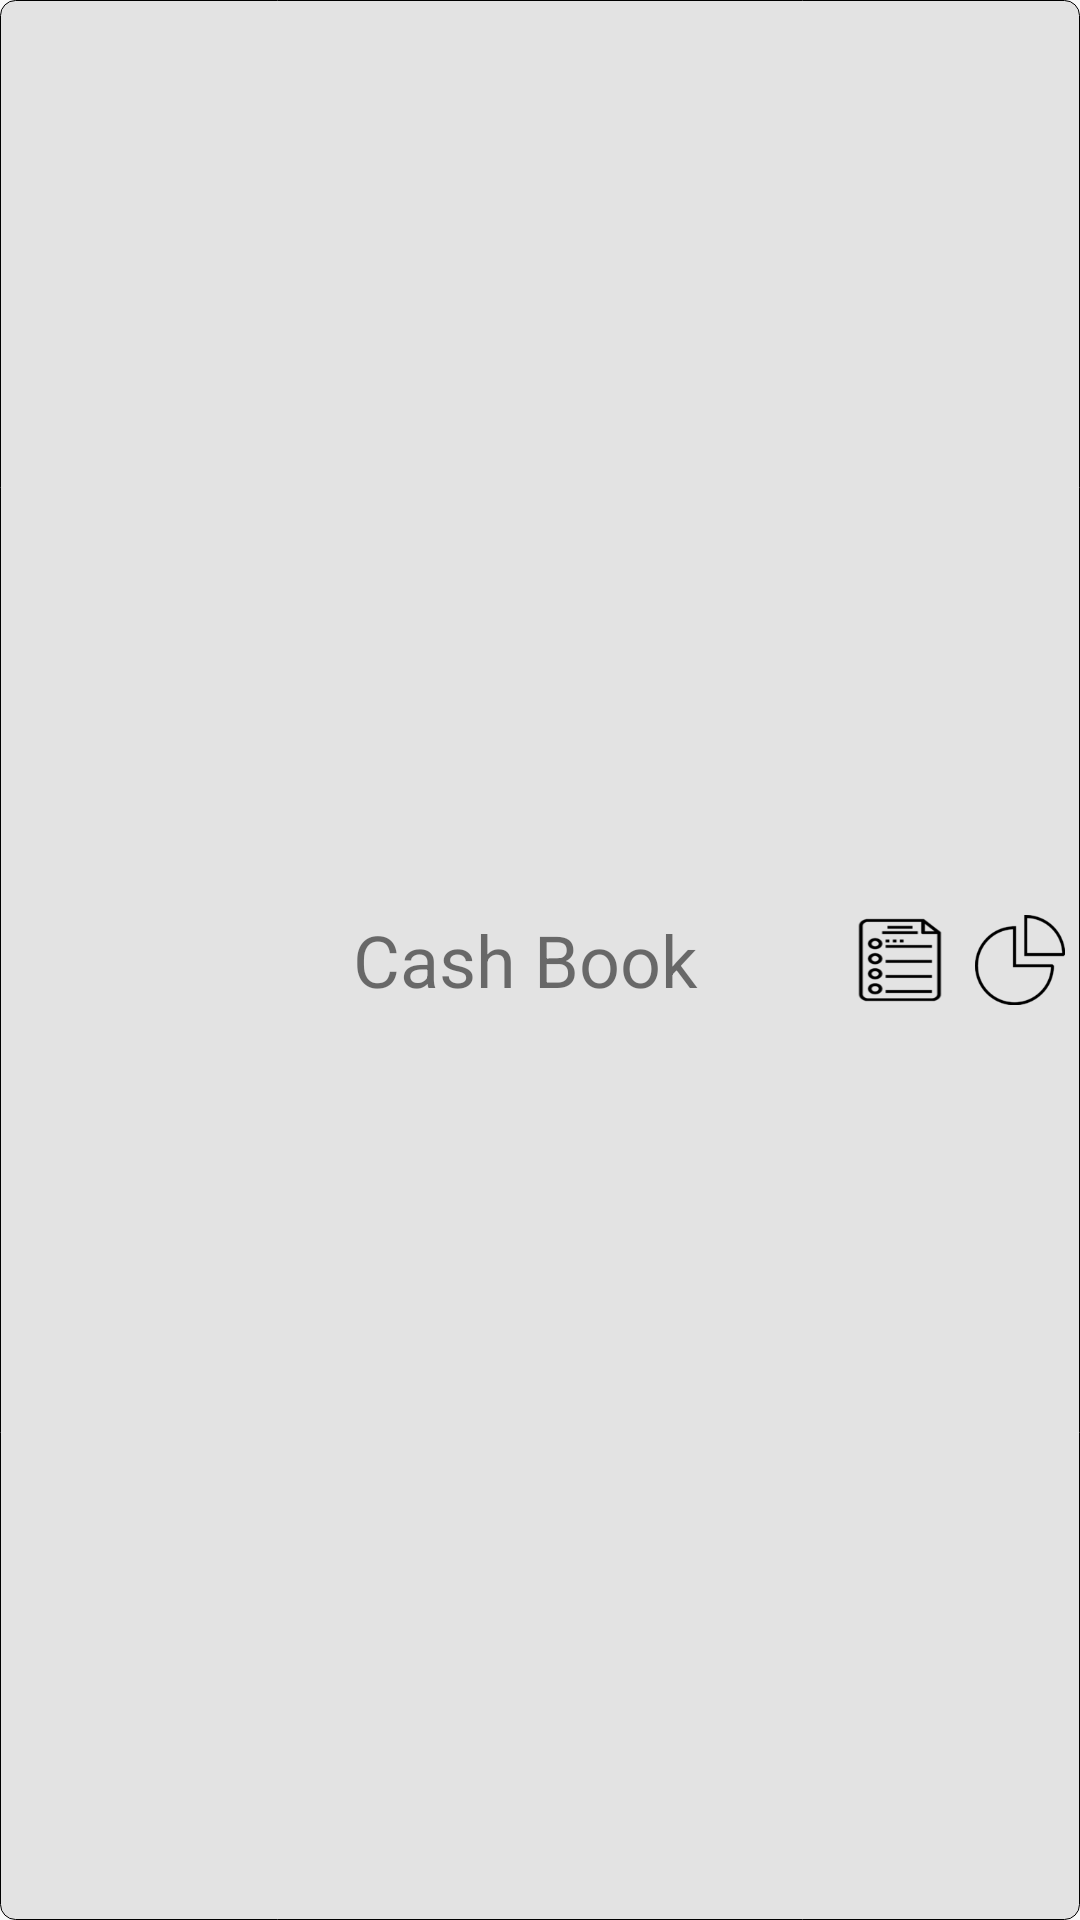

Icon click points for this 1080x1920 phone screenshot, format point (x, y):
graph: point (1020, 960)
list: point (900, 960)
